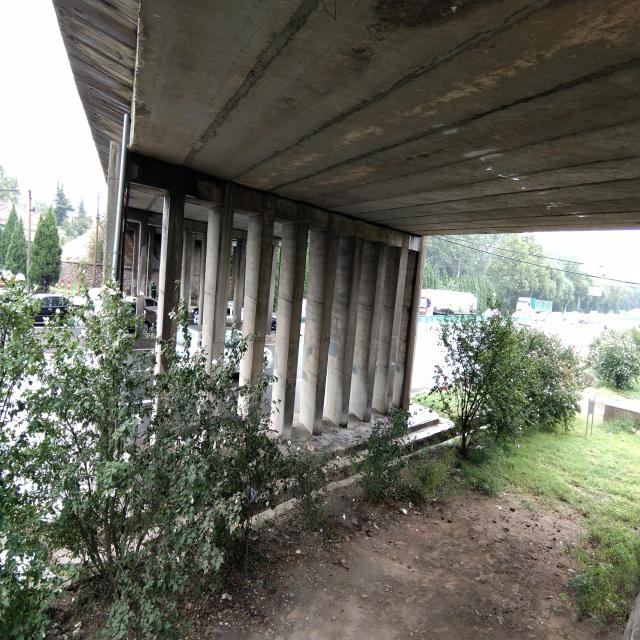horizontal crack: (390, 0, 550, 89)
